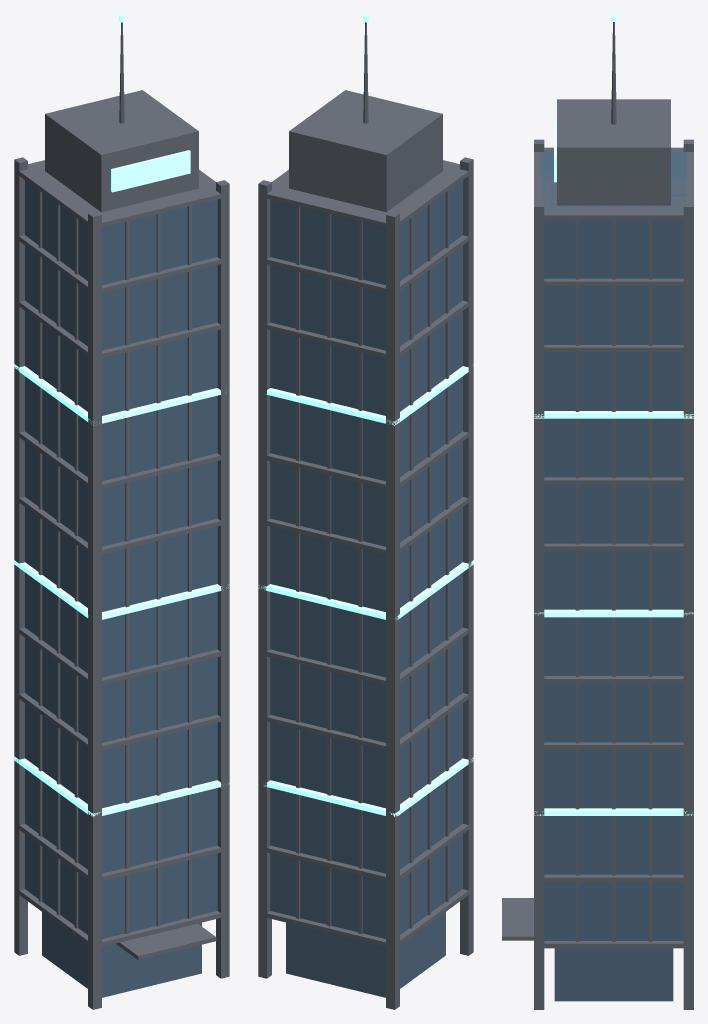
The model's file is tower_d.glb.
3 renders of one model, left to right at view 1: azimuth 30°, elevation 25°; view 2: azimuth 150°, elevation 25°; view 3: azimuth 270°, elevation 25°, orthographic.
Parts seen in each view (by area): view 1: tower_d; view 2: tower_d; view 3: tower_d.
Boxes of the visible parts, <box> form: tower_d: <box>14,14,229,1009</box>; tower_d: <box>258,14,473,1009</box>; tower_d: <box>502,14,693,1009</box>.
Size of the model in its own units: 7 by 46.45 by 8.4.
